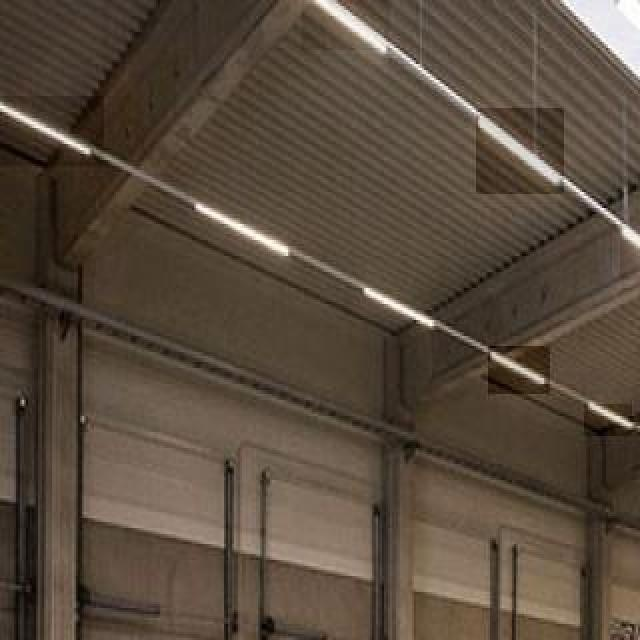fluorescent tube: (186, 187, 306, 275), (7, 103, 125, 181), (473, 105, 560, 200), (346, 275, 449, 340), (313, 0, 395, 64), (487, 349, 553, 400), (577, 393, 635, 440), (608, 216, 640, 290)
